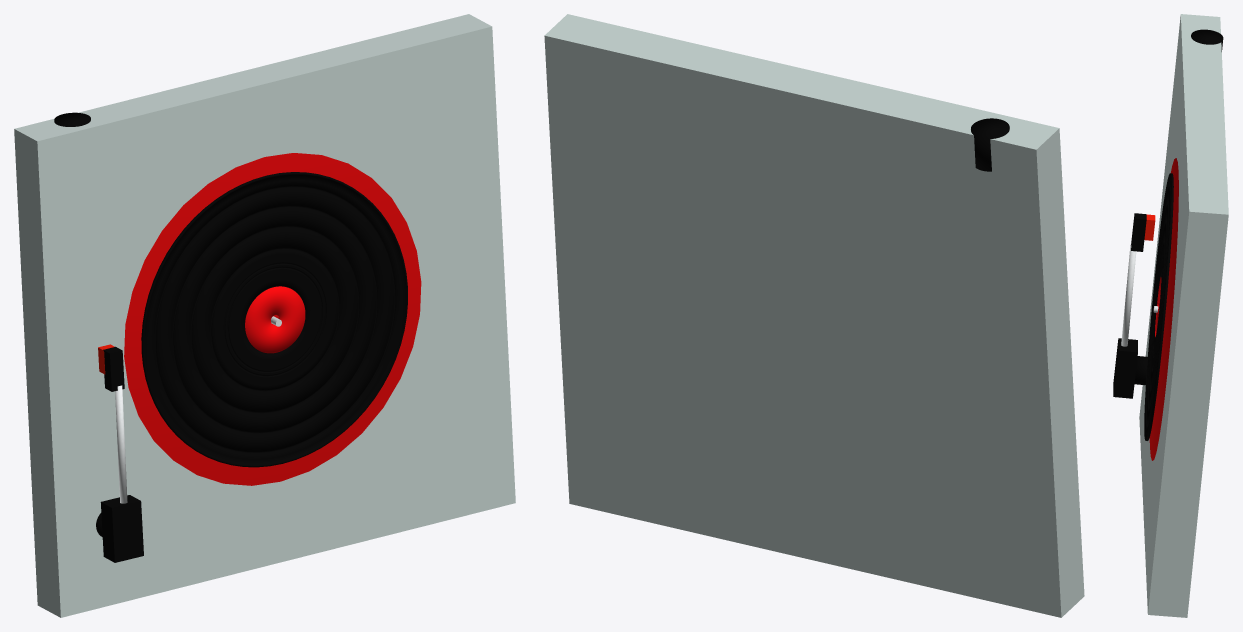
Rendered from record.glb.
3 views of the same model, side by side, from view 1: azimuth 30°, elevation 25°; view 2: azimuth 150°, elevation 25°; view 3: azimuth 270°, elevation 25° (orthographic). The views are drawn at different scales.
Visible parts, largest first — view 1: Record base, Disc_Cylinder, Stylus; view 2: Record base, Cylinder; view 3: Record base, Disc_Cylinder, Stylus, Cylinder, Cylinder.001.
Boxes of the visible parts, left/top/right/bottom form: Record base: left=14, top=14, right=515, bottom=617; Disc_Cylinder: left=141, top=172, right=407, bottom=467; Stylus: left=98, top=344, right=143, bottom=562; Record base: left=544, top=14, right=1084, bottom=617; Cylinder: left=971, top=118, right=1009, bottom=171; Record base: left=1121, top=14, right=1228, bottom=617; Disc_Cylinder: left=1144, top=173, right=1173, bottom=440; Stylus: left=1113, top=213, right=1155, bottom=398; Cylinder: left=1191, top=29, right=1223, bottom=51; Cylinder.001: left=1134, top=356, right=1147, bottom=385.
Bounding box in the file's own units: 8.6 × 8.29 × 2.13.
10 materials, 1 textured.
